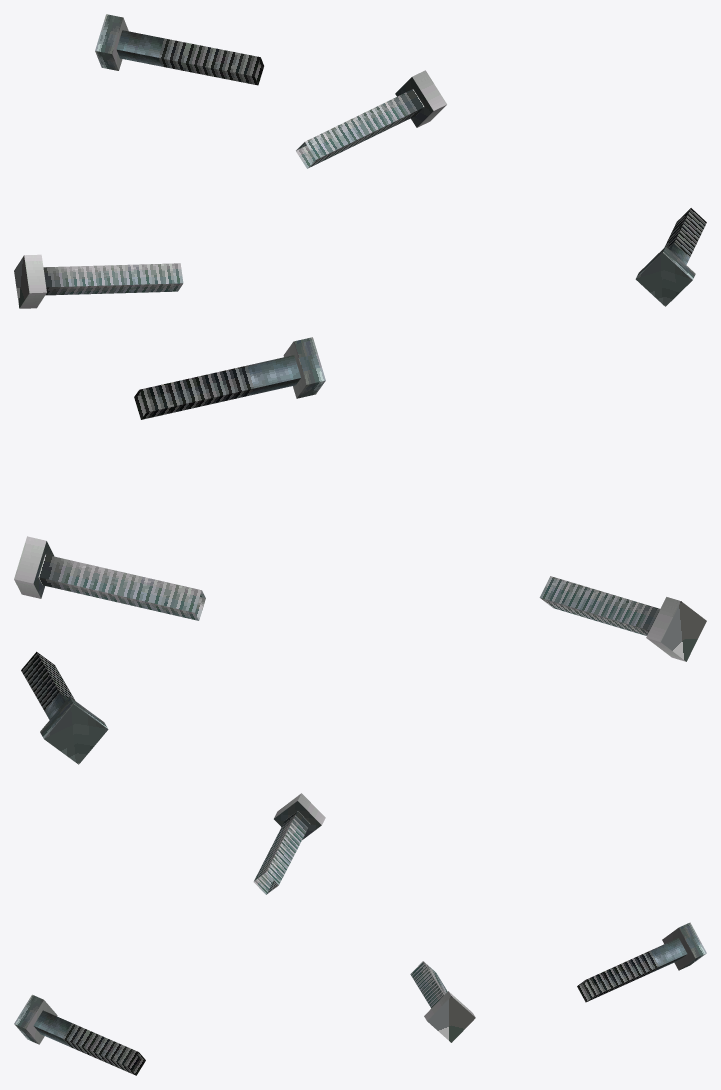
The model's file is bolts_4.fbx.
The picture shows the model from 3 angles, top to bottom: view 1: azimuth 30°, elevation 25°; view 2: azimuth 150°, elevation 25°; view 3: azimuth 270°, elevation 25°; orthographic projection. The views are drawn at different scales.
Parts seen in each view (by area): view 1: mesh_0, mesh_3, mesh_1, mesh_2; view 2: mesh_1, mesh_2, mesh_3, mesh_0; view 3: mesh_2, mesh_0, mesh_3, mesh_1.
Part boxes in pixels (x1=…): mesh_0: x1=95, y1=14, x2=264, y2=85; mesh_3: x1=14, y1=254, x2=183, y2=308; mesh_1: x1=296, y1=70, x2=446, y2=168; mesh_2: x1=635, y1=208, x2=706, y2=306; mesh_1: x1=14, y1=536, x2=205, y2=620; mesh_2: x1=134, y1=337, x2=325, y2=419; mesh_3: x1=539, y1=576, x2=706, y2=661; mesh_0: x1=21, y1=651, x2=108, y2=764; mesh_2: x1=14, y1=994, x2=145, y2=1075; mesh_0: x1=577, y1=922, x2=706, y2=1002; mesh_3: x1=253, y1=793, x2=325, y2=894; mesh_1: x1=410, y1=961, x2=475, y2=1042.
Bounding box in the file's own units: 37.43 × 3.37 × 44.31.
Materials: 1 (1 with a texture image).
